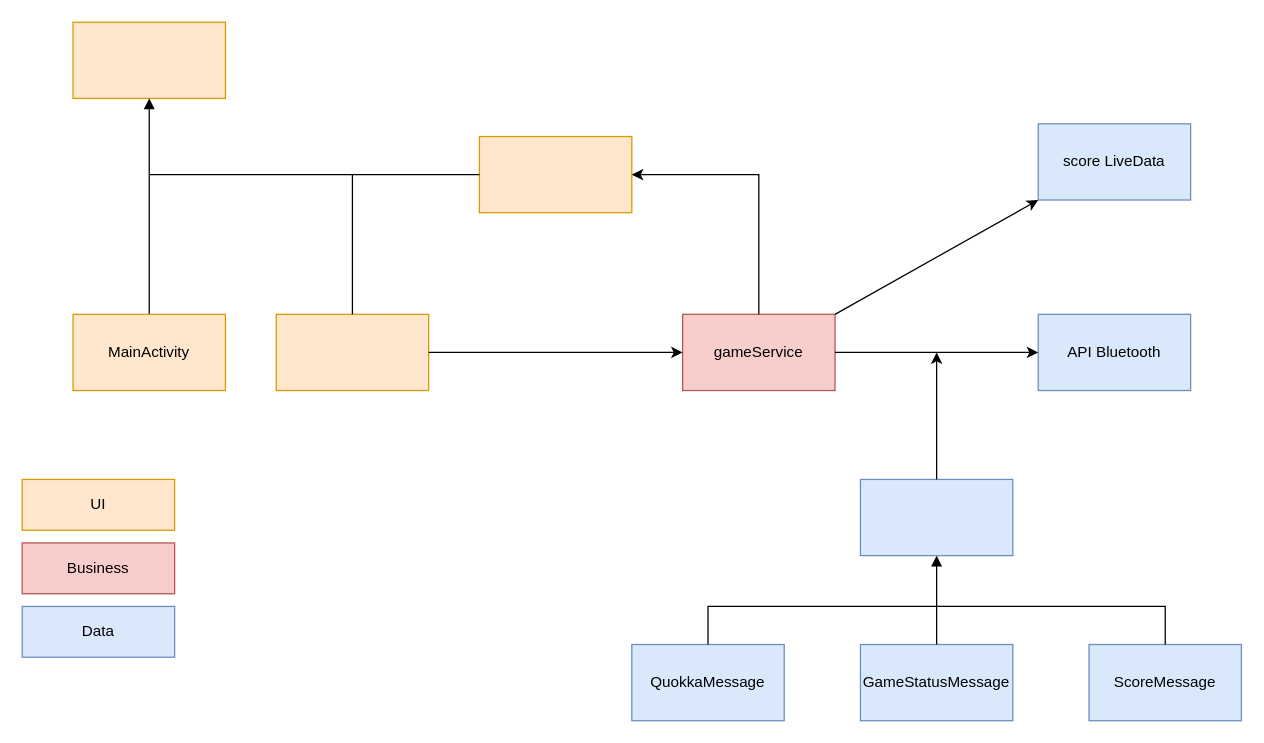
Some shapes in this 1264 by 743 pixel diagram are drawn without their labels. Here are the shapes that lost their labels. From the top down, the box of each, then its label:
(72, 21, 225, 98): BTActivity
(478, 135, 632, 213): QuokkaGameActivity
(275, 313, 429, 391): WhackGameActivity
(859, 478, 1013, 556): Message
